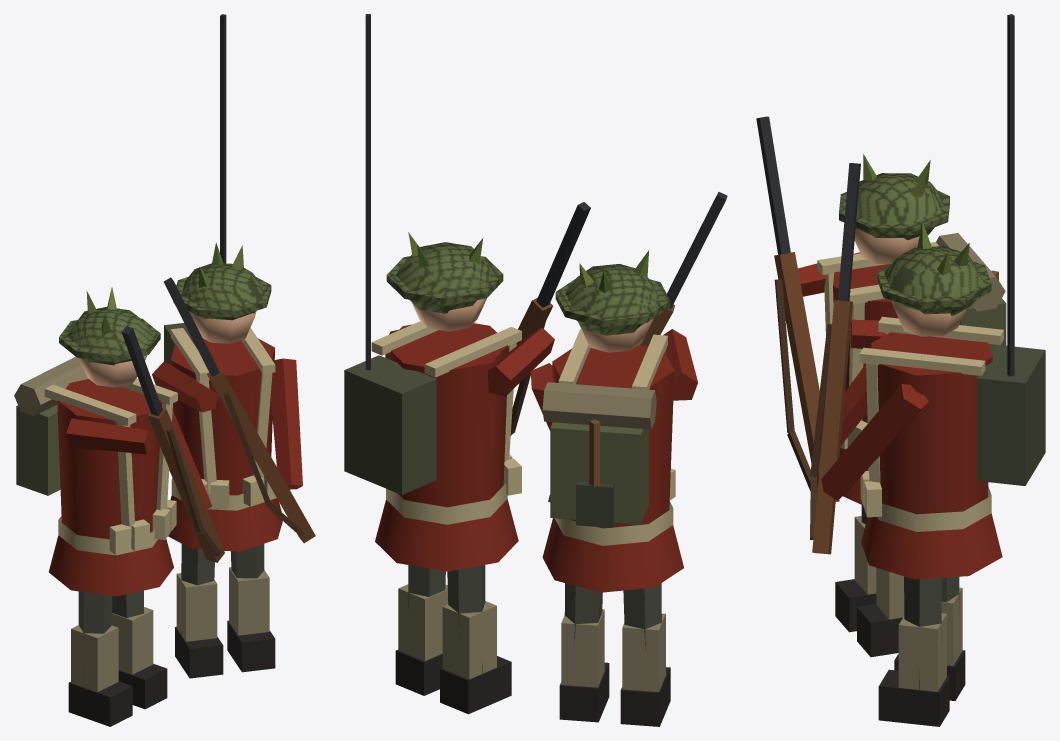
File: sentry_dl6_red.glb
3 views of the same model, side by side, from view 1: azimuth 30°, elevation 25°; view 2: azimuth 150°, elevation 25°; view 3: azimuth 270°, elevation 25° (orthographic). The views are drawn at different scales.
Visible parts, largest first — view 1: sentry_dl6_red; view 2: sentry_dl6_red; view 3: sentry_dl6_red.
Part boxes in pixels (x1,y1,x2,y2): sentry_dl6_red: (14,14,315,726); sentry_dl6_red: (344,14,727,726); sentry_dl6_red: (756,14,1045,726).
Bounding box in the file's own units: 0.2575 × 0.589 × 0.2183.
1 material, 1 textured.
